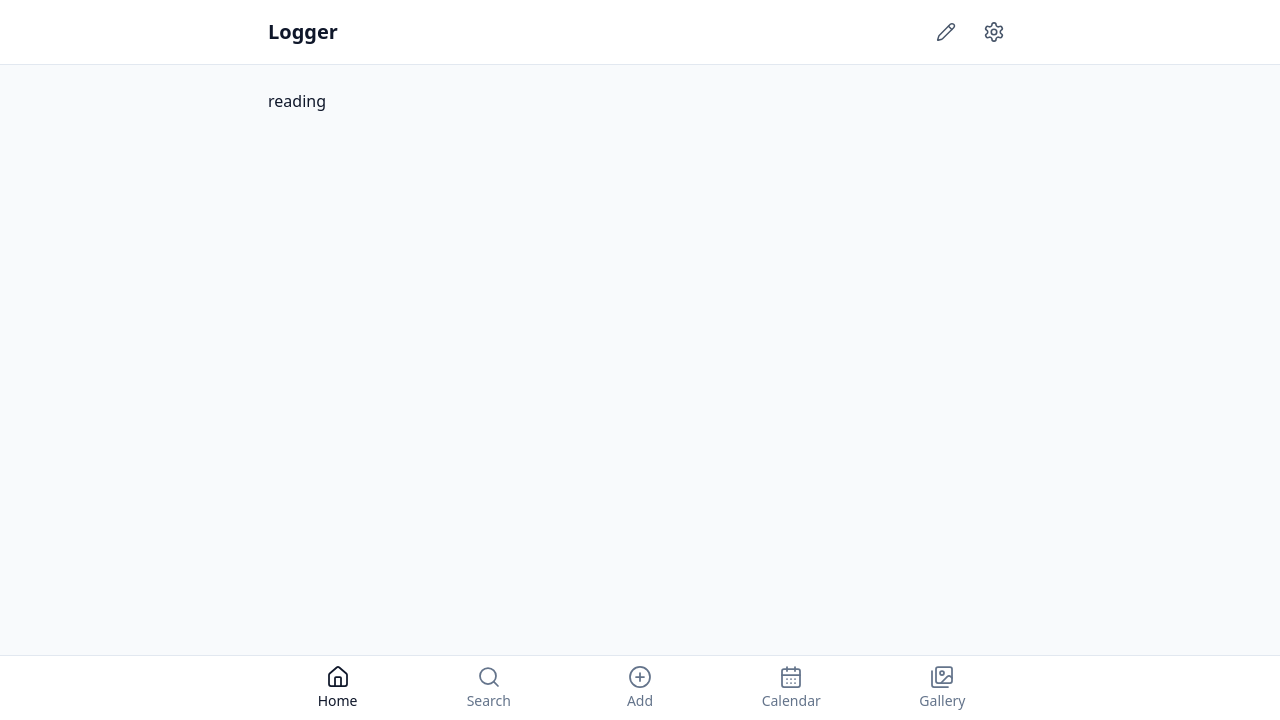
Test: Layout › turns edit mode on and back off from the header
What coordinates should you click on to do the following:
click the button named "Edit this screen"
I would click on:
 (946, 32)
Its box is [924,10,968,54].
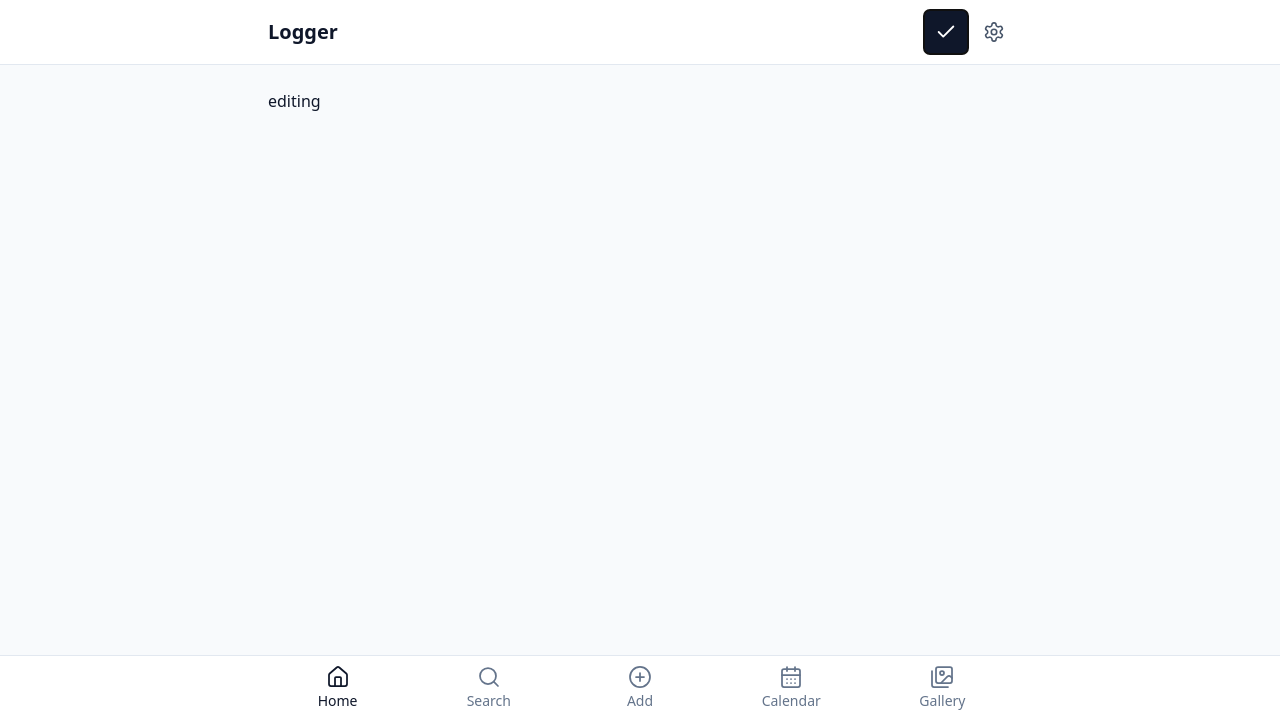
Now the text "editing" is shown, box [268,90,321,112]
What coordinates should you click on to do the following:
click the button named "Done editing"
I would click on:
 (946, 32)
Its box is [924,10,968,54].
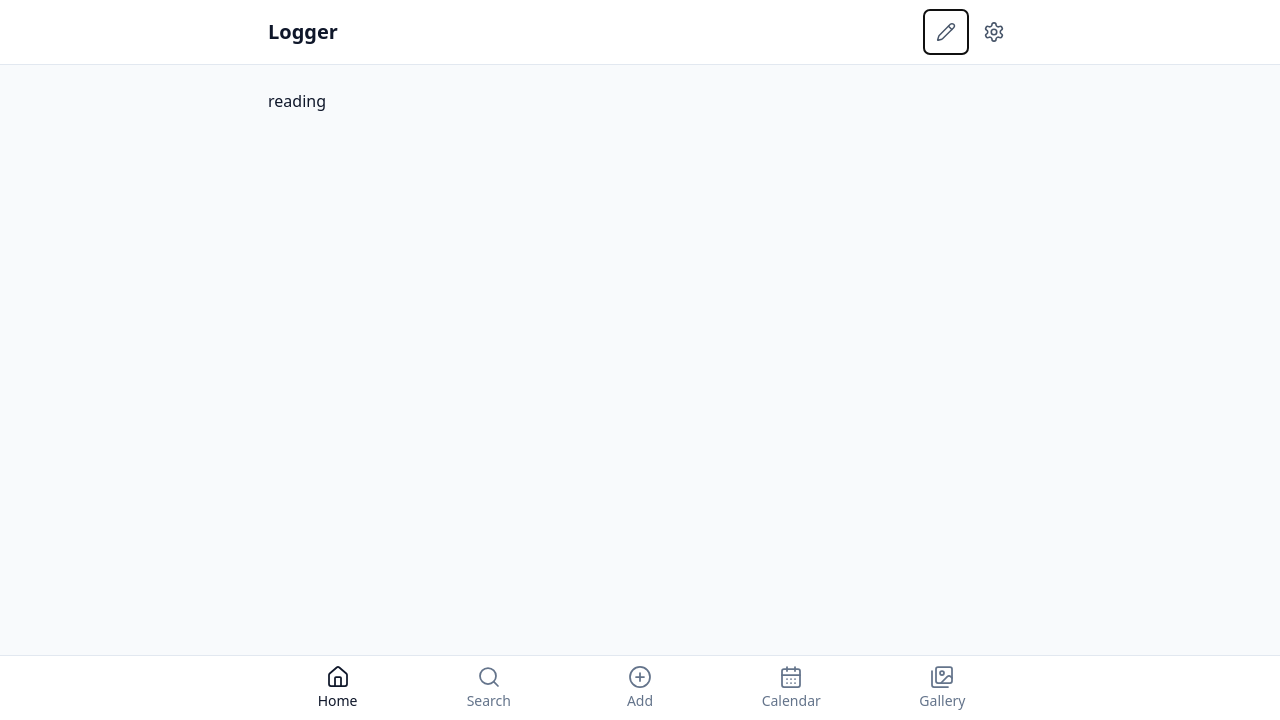
Now the button named "Edit this screen" is shown, box [924,10,968,54]
Now the text "reading" is shown, box [268,90,326,112]
